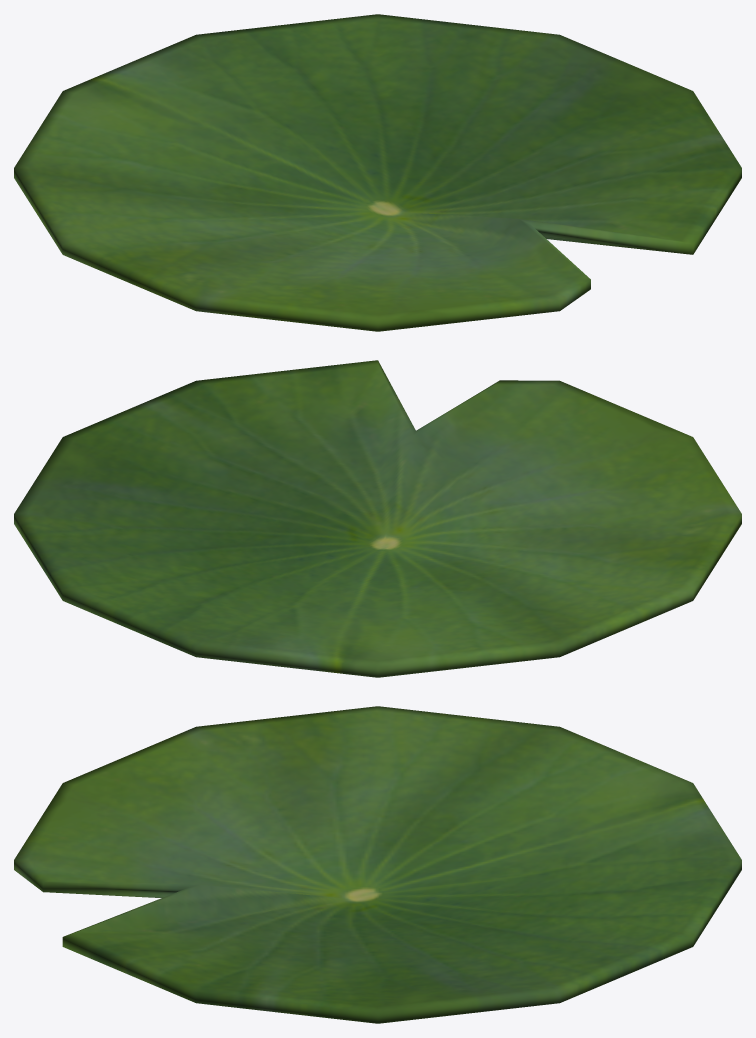
Rendered from GC_Lotusleaf_01.FBX.
The picture shows the model from 3 angles, top to bottom: view 1: azimuth 30°, elevation 25°; view 2: azimuth 150°, elevation 25°; view 3: azimuth 270°, elevation 25°; orthographic projection.
Visible parts, largest first — view 1: GC_Lotusleaf_01; view 2: GC_Lotusleaf_01; view 3: GC_Lotusleaf_01.
Boxes of the visible parts, bbox=[...] form: GC_Lotusleaf_01: bbox=[14, 14, 741, 331]; GC_Lotusleaf_01: bbox=[14, 360, 741, 677]; GC_Lotusleaf_01: bbox=[14, 706, 741, 1023].
Size of the model in its own units: 53.01 by 3.74 by 53.01.
